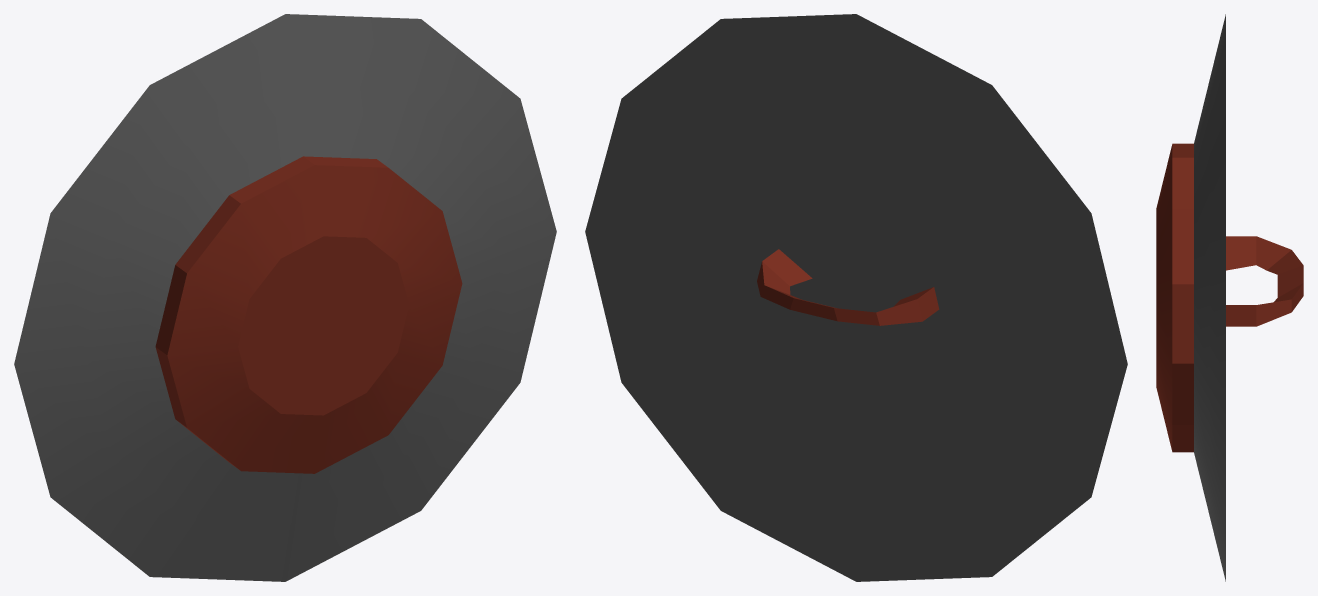
Rendered from mdl_Shield.fbx.
The picture shows the model from 3 angles, left to right: view 1: azimuth 30°, elevation 25°; view 2: azimuth 150°, elevation 25°; view 3: azimuth 270°, elevation 25°; orthographic projection. The views are drawn at different scales.
Parts seen in each view (by area): view 1: Cone001; view 2: Cone001; view 3: Cone001.
Boxes of the visible parts, bbox=[...] form: Cone001: bbox=[14, 14, 556, 581]; Cone001: bbox=[585, 14, 1127, 581]; Cone001: bbox=[1156, 14, 1303, 581].
Size of the model in its own units: 32.98 by 32.98 by 8.51.
